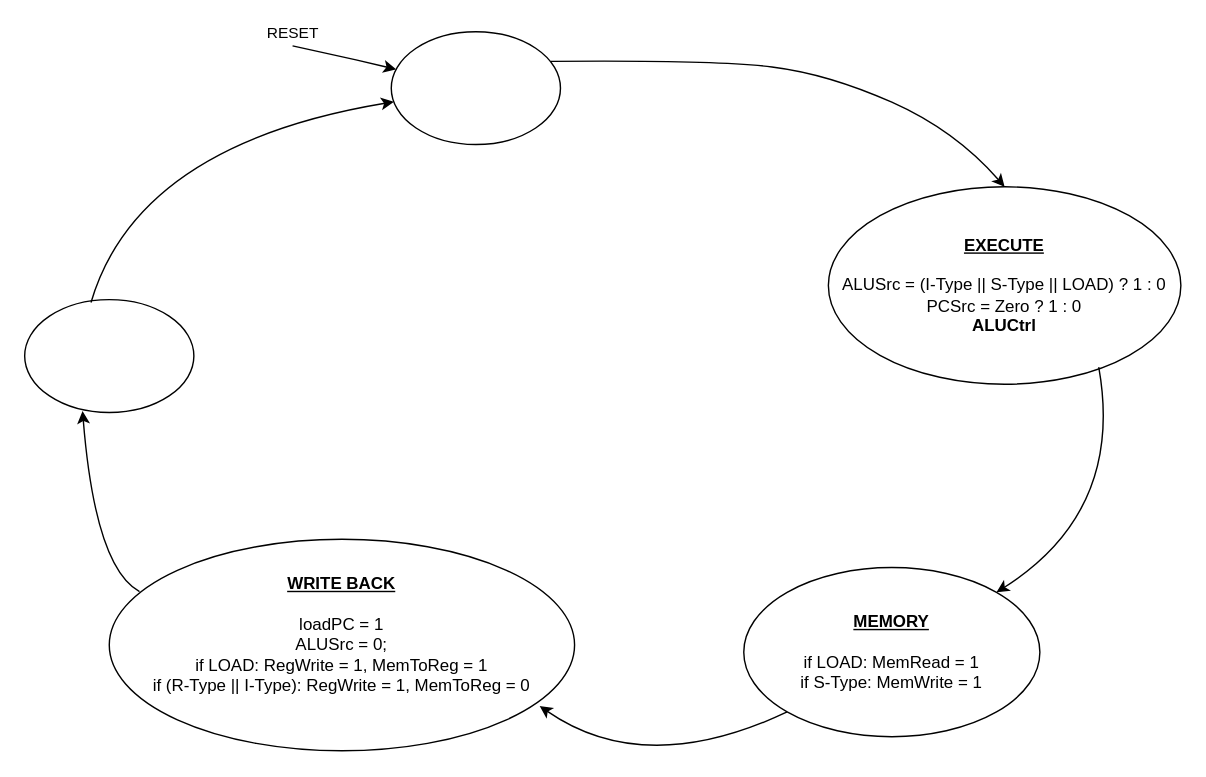
This 1206x777 diagram has some shape labels left out. Here are the shapes that lost their labels. From the top down, the box of each, then its label:
(390, 30, 560, 145): DECODE PCSrc = 0
(23, 298, 194, 412): FETCH loadPC = 0
